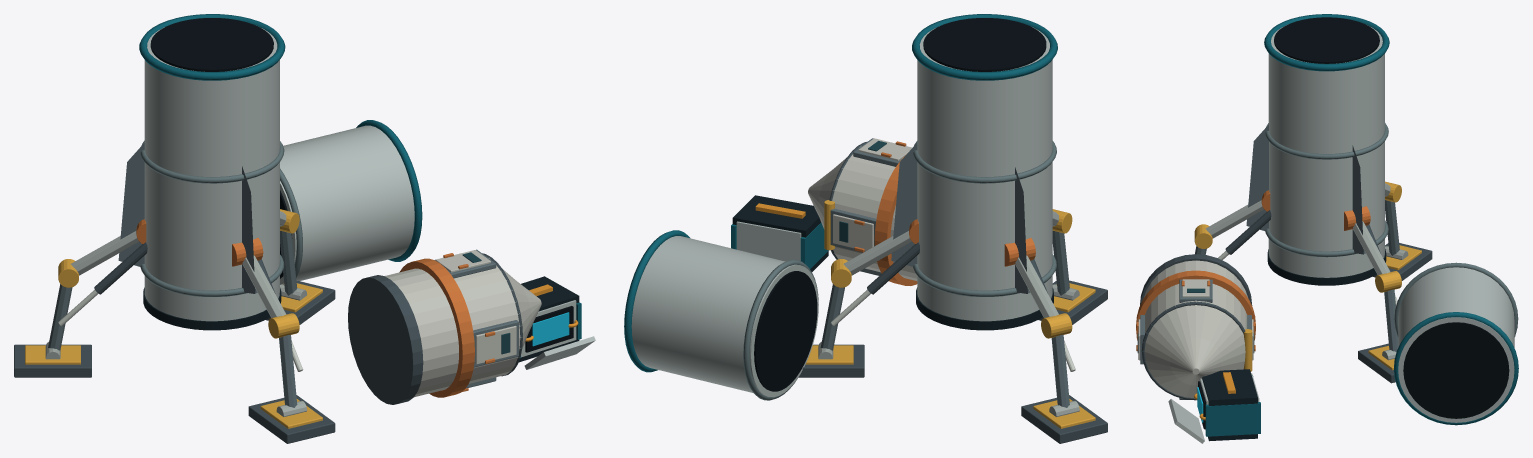
File: sh02_salvage_layout_stage1_lod0.glb
3 views of the same model, side by side, from view 1: azimuth 30°, elevation 25°; view 2: azimuth 150°, elevation 25°; view 3: azimuth 270°, elevation 25° (orthographic). The views are drawn at different scales.
Parts seen in each view (by area): view 1: SH02_SALVAGE_GEOMETRY_00_LANDING, SH02_SALVAGE_GEOMETRY_02_CAPSULE, SH02_SALVAGE_GEOMETRY_01_TANK, SH02_SALVAGE_GEOMETRY_03_ISAO_MODULE; view 2: SH02_SALVAGE_GEOMETRY_00_LANDING, SH02_SALVAGE_GEOMETRY_01_TANK, SH02_SALVAGE_GEOMETRY_02_CAPSULE, SH02_SALVAGE_GEOMETRY_03_ISAO_MODULE; view 3: SH02_SALVAGE_GEOMETRY_00_LANDING, SH02_SALVAGE_GEOMETRY_01_TANK, SH02_SALVAGE_GEOMETRY_02_CAPSULE, SH02_SALVAGE_GEOMETRY_03_ISAO_MODULE.
Part boxes in pixels (x1,y1,x2,y2): SH02_SALVAGE_GEOMETRY_00_LANDING: (14, 14, 335, 443); SH02_SALVAGE_GEOMETRY_02_CAPSULE: (348, 249, 541, 404); SH02_SALVAGE_GEOMETRY_01_TANK: (280, 120, 422, 284); SH02_SALVAGE_GEOMETRY_03_ISAO_MODULE: (518, 276, 595, 369); SH02_SALVAGE_GEOMETRY_00_LANDING: (799, 14, 1107, 443); SH02_SALVAGE_GEOMETRY_01_TANK: (624, 230, 818, 400); SH02_SALVAGE_GEOMETRY_02_CAPSULE: (808, 138, 917, 285); SH02_SALVAGE_GEOMETRY_03_ISAO_MODULE: (731, 195, 828, 271); SH02_SALVAGE_GEOMETRY_00_LANDING: (1194, 14, 1432, 383); SH02_SALVAGE_GEOMETRY_01_TANK: (1394, 262, 1518, 425); SH02_SALVAGE_GEOMETRY_02_CAPSULE: (1136, 254, 1255, 400); SH02_SALVAGE_GEOMETRY_03_ISAO_MODULE: (1168, 369, 1260, 443).
Bounding box in the file's own units: 15.66 × 10.7 × 13.16.
